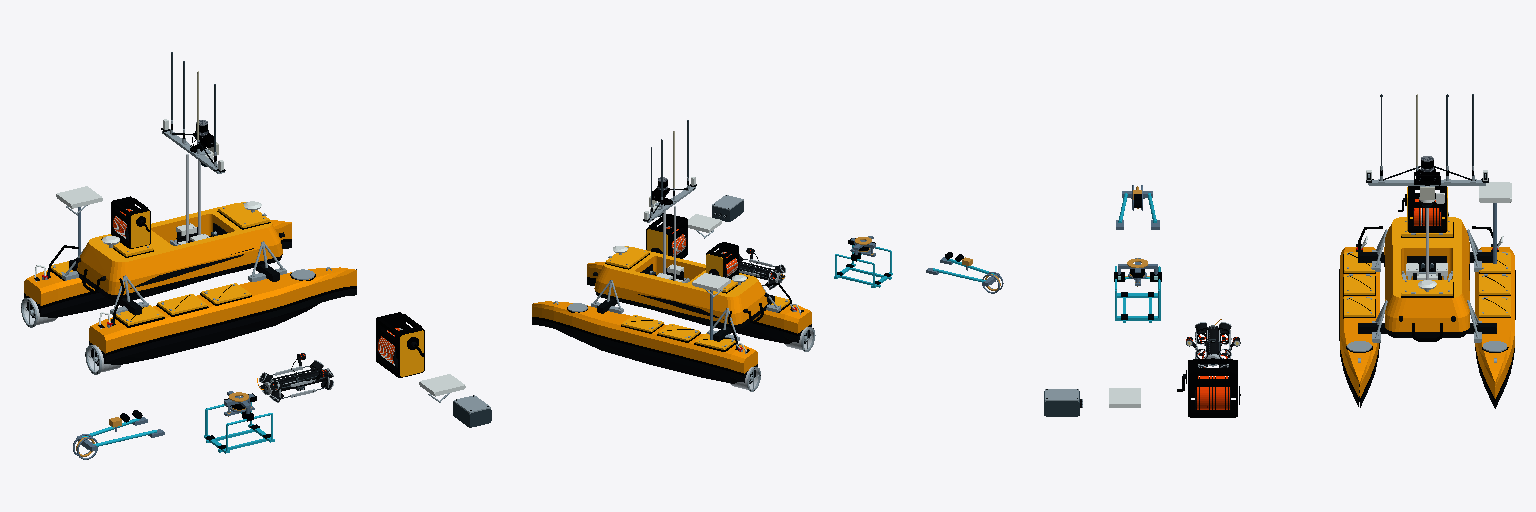
URDF robot description (usv_rov_showcase):
<?xml version="1.0"?>
<!-- Visual description only. Fixed placements are source estimates, not measured extrinsics. -->
<robot name="usv_rov_showcase">
<link name="base_link"/>
<link name="me120_hull_port"><visual><geometry><mesh filename="package://usv_rov_description/meshes/me120/hull_port.dae"/></geometry></visual></link><joint name="me120_hull_port_fixed" type="fixed"><parent link="base_link"/><child link="me120_hull_port"/><origin xyz="0 0 0.051" rpy="0 0 0"/></joint>
<link name="me120_hull_starboard"><visual><geometry><mesh filename="package://usv_rov_description/meshes/me120/hull_starboard.dae"/></geometry></visual></link><joint name="me120_hull_starboard_fixed" type="fixed"><parent link="base_link"/><child link="me120_hull_starboard"/><origin xyz="0 0 0.051" rpy="0 0 0"/></joint>
<link name="me120_bridge_frame"><visual><geometry><mesh filename="package://usv_rov_description/meshes/me120/bridge_frame.dae"/></geometry></visual></link><joint name="me120_bridge_frame_fixed" type="fixed"><parent link="base_link"/><child link="me120_bridge_frame"/><origin xyz="0 0 0.051" rpy="0 0 0"/></joint>
<link name="me120_equipment_cabin"><visual><geometry><mesh filename="package://usv_rov_description/meshes/me120/equipment_cabin.dae"/></geometry></visual></link><joint name="me120_equipment_cabin_fixed" type="fixed"><parent link="base_link"/><child link="me120_equipment_cabin"/><origin xyz="0 0 0.051" rpy="0 0 0"/></joint>
<link name="me120_payload_lifter_fixed"><visual><geometry><mesh filename="package://usv_rov_description/meshes/me120/payload_lifter_fixed.dae"/></geometry></visual></link><joint name="me120_payload_lifter_fixed_fixed" type="fixed"><parent link="base_link"/><child link="me120_payload_lifter_fixed"/><origin xyz="0 0 0.051" rpy="0 0 0"/></joint>
<link name="me120_payload_lifter_moving"><visual><geometry><mesh filename="package://usv_rov_description/meshes/me120/payload_lifter_moving.dae"/></geometry></visual></link><joint name="me120_payload_lifter_moving_fixed" type="fixed"><parent link="base_link"/><child link="me120_payload_lifter_moving"/><origin xyz="0 0 0.469" rpy="0 0 0"/></joint>
<link name="me120_payload_mounting_ring"><visual><geometry><mesh filename="package://usv_rov_description/meshes/me120/payload_mounting_ring.dae"/></geometry></visual></link><joint name="me120_payload_mounting_ring_fixed" type="fixed"><parent link="base_link"/><child link="me120_payload_mounting_ring"/><origin xyz="0 0 0.469" rpy="0 0 0"/></joint>
<link name="me120_antenna"><visual><geometry><mesh filename="package://usv_rov_description/meshes/me120/antenna.dae"/></geometry></visual></link><joint name="me120_antenna_fixed" type="fixed"><parent link="base_link"/><child link="me120_antenna"/><origin xyz="0 0 -0.291" rpy="0 0 0"/></joint>
<link name="me120_thrusters"><visual><geometry><mesh filename="package://usv_rov_description/meshes/me120/thrusters.dae"/></geometry></visual></link><joint name="me120_thrusters_fixed" type="fixed"><parent link="base_link"/><child link="me120_thrusters"/><origin xyz="0 0 0.051" rpy="0 0 0"/></joint>
<link name="me120_sensor_mount"><visual><geometry><mesh filename="package://usv_rov_description/meshes/me120/sensor_mount.dae"/></geometry></visual></link><joint name="me120_sensor_mount_fixed" type="fixed"><parent link="base_link"/><child link="me120_sensor_mount"/><origin xyz="0.077 0 1.575" rpy="0 0 0"/></joint>
<link name="me120_zed_camera"><visual><geometry><mesh filename="package://usv_rov_description/meshes/me120/zed_camera.dae"/></geometry></visual></link><joint name="me120_zed_camera_fixed" type="fixed"><parent link="base_link"/><child link="me120_zed_camera"/><origin xyz="0.109 0 1.652" rpy="0 0 0"/></joint>
<link name="me120_robosense_lidar"><visual><geometry><mesh filename="package://usv_rov_description/meshes/me120/robosense_lidar.dae"/></geometry></visual></link><joint name="me120_robosense_lidar_fixed" type="fixed"><parent link="base_link"/><child link="me120_robosense_lidar"/><origin xyz="0.072 0 1.698" rpy="0 0 0"/></joint>
<link name="me120_front_cover"><visual><geometry><mesh filename="package://usv_rov_description/meshes/me120/front_cover.dae"/></geometry></visual></link><joint name="me120_front_cover_fixed" type="fixed"><parent link="base_link"/><child link="me120_front_cover"/><origin xyz="0.181 0 1.554" rpy="0 0 0"/></joint>
<link name="me120_sensor_service_cable_loops"><visual><geometry><mesh filename="package://usv_rov_description/meshes/me120/sensor_service_cable_loops.dae"/></geometry></visual></link><joint name="me120_sensor_service_cable_loops_fixed" type="fixed"><parent link="base_link"/><child link="me120_sensor_service_cable_loops"/><origin xyz="0 0 -0.291" rpy="0 0 0"/></joint>
<link name="me120_Starlink_support_concept"><visual><geometry><mesh filename="package://usv_rov_description/meshes/me120/Starlink_support_concept.dae"/></geometry></visual></link><joint name="me120_Starlink_support_concept_fixed" type="fixed"><parent link="base_link"/><child link="me120_Starlink_support_concept"/><origin xyz="-0.8 0.54 0.781" rpy="0 0 0"/></joint>
<link name="me120_mounted_e_reel"><visual><geometry><mesh filename="package://usv_rov_description/meshes/me120/mounted_e_reel.dae"/></geometry></visual></link><joint name="me120_mounted_e_reel_fixed" type="fixed"><parent link="base_link"/><child link="me120_mounted_e_reel"/><origin xyz="-0.615 0 0.886" rpy="0 0 0"/></joint>
<link name="me120_mounted_starlink_mini"><visual><geometry><mesh filename="package://usv_rov_description/meshes/me120/mounted_starlink_mini.dae"/></geometry></visual></link><joint name="me120_mounted_starlink_mini_fixed" type="fixed"><parent link="base_link"/><child link="me120_mounted_starlink_mini"/><origin xyz="-0.8 0.54 1.081" rpy="0 0 0"/></joint>
<link name="me120_robosense_mount_frame"/><joint name="me120_robosense_mount_frame_fixed" type="fixed"><parent link="base_link"/><child link="me120_robosense_mount_frame"/><origin xyz="0.072 0 1.698" rpy="0 0 0"/></joint>
<link name="me120_zed_mount_frame"/><joint name="me120_zed_mount_frame_fixed" type="fixed"><parent link="base_link"/><child link="me120_zed_mount_frame"/><origin xyz="0.109 0 1.652" rpy="0 0 0"/></joint>
<link name="me120_hikvision_mount_frame"/><joint name="me120_hikvision_mount_frame_fixed" type="fixed"><parent link="base_link"/><child link="me120_hikvision_mount_frame"/><origin xyz="0.108 0 1.444" rpy="0 0 0"/></joint>
<link name="m2_pro_max_rov_body"><visual><geometry><mesh filename="package://usv_rov_description/meshes/m2_pro_max/rov_body.dae"/></geometry></visual></link><joint name="m2_pro_max_rov_body_fixed" type="fixed"><parent link="base_link"/><child link="m2_pro_max_rov_body"/><origin xyz="0 -1.7 0.03" rpy="0 0 0"/></joint>
<link name="m2_pro_max_rov_battery"><visual><geometry><mesh filename="package://usv_rov_description/meshes/m2_pro_max/rov_battery.dae"/></geometry></visual></link><joint name="m2_pro_max_rov_battery_fixed" type="fixed"><parent link="base_link"/><child link="m2_pro_max_rov_battery"/><origin xyz="0 -1.7 0.03" rpy="0 0 0"/></joint>
<link name="m2_pro_max_rov_frame"><visual><geometry><mesh filename="package://usv_rov_description/meshes/m2_pro_max/rov_frame.dae"/></geometry></visual></link><joint name="m2_pro_max_rov_frame_fixed" type="fixed"><parent link="base_link"/><child link="m2_pro_max_rov_frame"/><origin xyz="0 -1.7 0.03" rpy="0 0 0"/></joint>
<link name="m2_pro_max_rov_camera"><visual><geometry><mesh filename="package://usv_rov_description/meshes/m2_pro_max/rov_camera.dae"/></geometry></visual></link><joint name="m2_pro_max_rov_camera_fixed" type="fixed"><parent link="base_link"/><child link="m2_pro_max_rov_camera"/><origin xyz="0 -1.7 0.03" rpy="0 0 0"/></joint>
<link name="m2_pro_max_rov_thrusters"><visual><geometry><mesh filename="package://usv_rov_description/meshes/m2_pro_max/rov_thrusters.dae"/></geometry></visual></link><joint name="m2_pro_max_rov_thrusters_fixed" type="fixed"><parent link="base_link"/><child link="m2_pro_max_rov_thrusters"/><origin xyz="0 -1.7 0.03" rpy="0 0 0"/></joint>
<link name="m2_pro_max_rov_lights"><visual><geometry><mesh filename="package://usv_rov_description/meshes/m2_pro_max/rov_lights.dae"/></geometry></visual></link><joint name="m2_pro_max_rov_lights_fixed" type="fixed"><parent link="base_link"/><child link="m2_pro_max_rov_lights"/><origin xyz="0 -1.7 0.03" rpy="0 0 0"/></joint>
<link name="m2_pro_max_rov_tether"><visual><geometry><mesh filename="package://usv_rov_description/meshes/m2_pro_max/rov_tether.dae"/></geometry></visual></link><joint name="m2_pro_max_rov_tether_fixed" type="fixed"><parent link="base_link"/><child link="m2_pro_max_rov_tether"/><origin xyz="0 -1.7 0.03" rpy="0 0 0"/></joint>
<link name="e_reel_reel_housing"><visual><geometry><mesh filename="package://usv_rov_description/meshes/e_reel/reel_housing.dae"/></geometry></visual></link><joint name="e_reel_reel_housing_fixed" type="fixed"><parent link="base_link"/><child link="e_reel_reel_housing"/><origin xyz="1 -1.7 0.03" rpy="0 0 0"/></joint>
<link name="e_reel_reel_handle"><visual><geometry><mesh filename="package://usv_rov_description/meshes/e_reel/reel_handle.dae"/></geometry></visual></link><joint name="e_reel_reel_handle_fixed" type="fixed"><parent link="base_link"/><child link="e_reel_reel_handle"/><origin xyz="1 -1.7 0.03" rpy="0 0 0"/></joint>
<link name="e_reel_reel_feet"><visual><geometry><mesh filename="package://usv_rov_description/meshes/e_reel/reel_feet.dae"/></geometry></visual></link><joint name="e_reel_reel_feet_fixed" type="fixed"><parent link="base_link"/><child link="e_reel_reel_feet"/><origin xyz="1 -1.7 0.03" rpy="0 0 0"/></joint>
<link name="e_reel_reel_drum"><visual><geometry><mesh filename="package://usv_rov_description/meshes/e_reel/reel_drum.dae"/></geometry></visual></link><joint name="e_reel_reel_drum_fixed" type="fixed"><parent link="base_link"/><child link="e_reel_reel_drum"/><origin xyz="1 -1.7 0.03" rpy="0 0 0"/></joint>
<link name="e_reel_reel_tether"><visual><geometry><mesh filename="package://usv_rov_description/meshes/e_reel/reel_tether.dae"/></geometry></visual></link><joint name="e_reel_reel_tether_fixed" type="fixed"><parent link="base_link"/><child link="e_reel_reel_tether"/><origin xyz="1 -1.7 0.03" rpy="0 0 0"/></joint>
<link name="e_reel_reel_crank"><visual><geometry><mesh filename="package://usv_rov_description/meshes/e_reel/reel_crank.dae"/></geometry></visual></link><joint name="e_reel_reel_crank_fixed" type="fixed"><parent link="base_link"/><child link="e_reel_reel_crank"/><origin xyz="1 -1.7 0.03" rpy="0 0 0"/></joint>
<link name="e_reel_reel_controls"><visual><geometry><mesh filename="package://usv_rov_description/meshes/e_reel/reel_controls.dae"/></geometry></visual></link><joint name="e_reel_reel_controls_fixed" type="fixed"><parent link="base_link"/><child link="e_reel_reel_controls"/><origin xyz="1 -1.7 0.03" rpy="0 0 0"/></joint>
<link name="starlink_mini_starlink_panel_concept"><visual><geometry><mesh filename="package://usv_rov_description/meshes/starlink_mini/starlink_panel_concept.dae"/></geometry></visual></link><joint name="starlink_mini_starlink_panel_concept_fixed" type="fixed"><parent link="base_link"/><child link="starlink_mini_starlink_panel_concept"/><origin xyz="1 -2.4 0.119" rpy="0 0 0"/></joint>
<link name="starlink_mini_starlink_mount_concept"><visual><geometry><mesh filename="package://usv_rov_description/meshes/starlink_mini/starlink_mount_concept.dae"/></geometry></visual></link><joint name="starlink_mini_starlink_mount_concept_fixed" type="fixed"><parent link="base_link"/><child link="starlink_mini_starlink_mount_concept"/><origin xyz="1 -2.4 0.119" rpy="0 0 0"/></joint>
<link name="compute_enclosure_compute_case_concept"><visual><geometry><mesh filename="package://usv_rov_description/meshes/compute_enclosure/compute_case_concept.dae"/></geometry></visual></link><joint name="compute_enclosure_compute_case_concept_fixed" type="fixed"><parent link="base_link"/><child link="compute_enclosure_compute_case_concept"/><origin xyz="1 -2.9 0.03" rpy="0 0 0"/></joint>
<link name="compute_enclosure_compute_lid_concept"><visual><geometry><mesh filename="package://usv_rov_description/meshes/compute_enclosure/compute_lid_concept.dae"/></geometry></visual></link><joint name="compute_enclosure_compute_lid_concept_fixed" type="fixed"><parent link="base_link"/><child link="compute_enclosure_compute_lid_concept"/><origin xyz="1 -2.9 0.03" rpy="0 0 0"/></joint>
<link name="compute_enclosure_compute_ports_concept"><visual><geometry><mesh filename="package://usv_rov_description/meshes/compute_enclosure/compute_ports_concept.dae"/></geometry></visual></link><joint name="compute_enclosure_compute_ports_concept_fixed" type="fixed"><parent link="base_link"/><child link="compute_enclosure_compute_ports_concept"/><origin xyz="1 -2.9 0.03" rpy="0 0 0"/></joint>
<link name="recovery_concept_capture_head"><visual><geometry><mesh filename="package://usv_rov_description/meshes/recovery_concept/capture_head.dae"/></geometry></visual></link><joint name="recovery_concept_capture_head_fixed" type="fixed"><parent link="base_link"/><child link="recovery_concept_capture_head"/><origin xyz="-0.9 -2.3 -0.018" rpy="0 0 0"/></joint>
<link name="recovery_concept_rov_yoke"><visual><geometry><mesh filename="package://usv_rov_description/meshes/recovery_concept/rov_yoke.dae"/></geometry></visual></link><joint name="recovery_concept_rov_yoke_fixed" type="fixed"><parent link="base_link"/><child link="recovery_concept_rov_yoke"/><origin xyz="-0.9 -2.3 -0.018" rpy="0 0 0"/></joint>
<link name="recovery_concept_tether_guide"><visual><geometry><mesh filename="package://usv_rov_description/meshes/recovery_concept/tether_guide.dae"/></geometry></visual></link><joint name="recovery_concept_tether_guide_fixed" type="fixed"><parent link="base_link"/><child link="recovery_concept_tether_guide"/><origin xyz="-0.9 -2.3 -0.018" rpy="0 0 0"/></joint>
</robot>

--- Facts derived from the render (not from the file) ---
The picture shows the robot from 3 angles, left to right: view 1: azimuth 30°, elevation 25°; view 2: azimuth 150°, elevation 25°; view 3: azimuth 270°, elevation 25°; orthographic projection.
Model usv_rov_showcase with 43 links and 42 joints (42 fixed), rooted at base_link, posed every joint at zero.
Visible links, largest first — view 1: me120_hull_port, me120_equipment_cabin, me120_hull_starboard, me120_mounted_e_reel, e_reel_reel_housing, me120_antenna, me120_bridge_frame, recovery_concept_tether_guide, me120_thrusters, recovery_concept_rov_yoke, me120_mounted_starlink_mini, starlink_mini_starlink_panel_concept (+4 smaller); view 2: me120_hull_starboard, me120_equipment_cabin, me120_hull_port, me120_mounted_e_reel, me120_antenna, me120_bridge_frame, recovery_concept_tether_guide, me120_thrusters, recovery_concept_rov_yoke, e_reel_reel_housing; view 3: me120_equipment_cabin, me120_hull_port, me120_hull_starboard, me120_bridge_frame, me120_antenna, me120_mounted_e_reel, e_reel_reel_housing, recovery_concept_rov_yoke, recovery_concept_tether_guide, e_reel_reel_tether, recovery_concept_capture_head, me120_mounted_starlink_mini (+3 smaller).
Link boxes in pixels (left/top/right/bottom): me120_hull_port: left=89, top=267, right=356, bottom=365; me120_equipment_cabin: left=75, top=201, right=284, bottom=300; me120_hull_starboard: left=24, top=220, right=291, bottom=317; me120_mounted_e_reel: left=111, top=196, right=150, bottom=248; e_reel_reel_housing: left=376, top=312, right=424, bottom=377; me120_antenna: left=161, top=52, right=225, bottom=173; me120_bridge_frame: left=62, top=241, right=286, bottom=314; recovery_concept_tether_guide: left=73, top=410, right=164, bottom=459; me120_thrusters: left=21, top=265, right=120, bottom=374; recovery_concept_rov_yoke: left=204, top=402, right=274, bottom=453; me120_mounted_starlink_mini: left=56, top=186, right=102, bottom=215; starlink_mini_starlink_panel_concept: left=419, top=374, right=465, bottom=396; me120_hull_starboard: left=532, top=301, right=757, bottom=383; me120_equipment_cabin: left=593, top=246, right=768, bottom=328; me120_hull_port: left=587, top=262, right=811, bottom=343; me120_mounted_e_reel: left=706, top=242, right=738, bottom=279; me120_antenna: left=643, top=120, right=696, bottom=222; me120_bridge_frame: left=591, top=280, right=780, bottom=341; recovery_concept_tether_guide: left=926, top=252, right=1003, bottom=293; me120_thrusters: left=730, top=304, right=815, bottom=391; recovery_concept_rov_yoke: left=834, top=245, right=892, bottom=287; e_reel_reel_housing: left=646, top=214, right=687, bottom=258; me120_equipment_cabin: left=1384, top=217, right=1469, bottom=341; me120_hull_port: left=1339, top=226, right=1382, bottom=407; me120_hull_starboard: left=1472, top=226, right=1515, bottom=408; me120_bridge_frame: left=1358, top=229, right=1496, bottom=342; me120_antenna: left=1366, top=94, right=1488, bottom=207; me120_mounted_e_reel: left=1398, top=186, right=1448, bottom=232; e_reel_reel_housing: left=1188, top=360, right=1237, bottom=417; recovery_concept_rov_yoke: left=1115, top=266, right=1160, bottom=322; recovery_concept_tether_guide: left=1116, top=185, right=1159, bottom=229; e_reel_reel_tether: left=1197, top=376, right=1229, bottom=409; recovery_concept_capture_head: left=1114, top=258, right=1161, bottom=286; me120_mounted_starlink_mini: left=1479, top=182, right=1511, bottom=202.
Bounding box of the posed robot: 3.73 × 3.74 × 2.3 m (x, y, z).
Meshes: 39 distinct files referenced, 39 mesh visuals loaded (39 Collada DAE).
